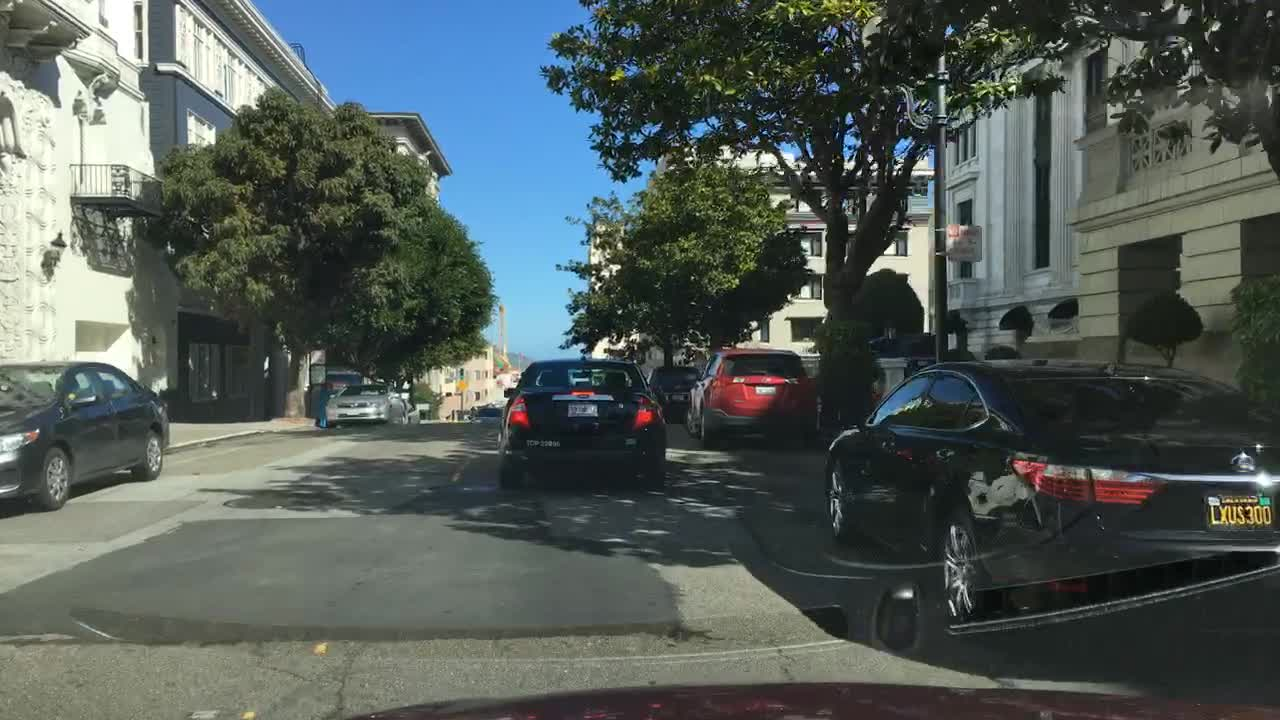car: (822, 360, 1279, 630), (0, 360, 168, 510), (498, 355, 666, 488), (683, 345, 818, 449), (324, 384, 403, 426), (649, 365, 703, 422), (475, 405, 506, 426), (403, 395, 421, 424)
traffic light: (458, 366, 465, 380)
traffic sign: (946, 223, 982, 260), (458, 380, 469, 393)
